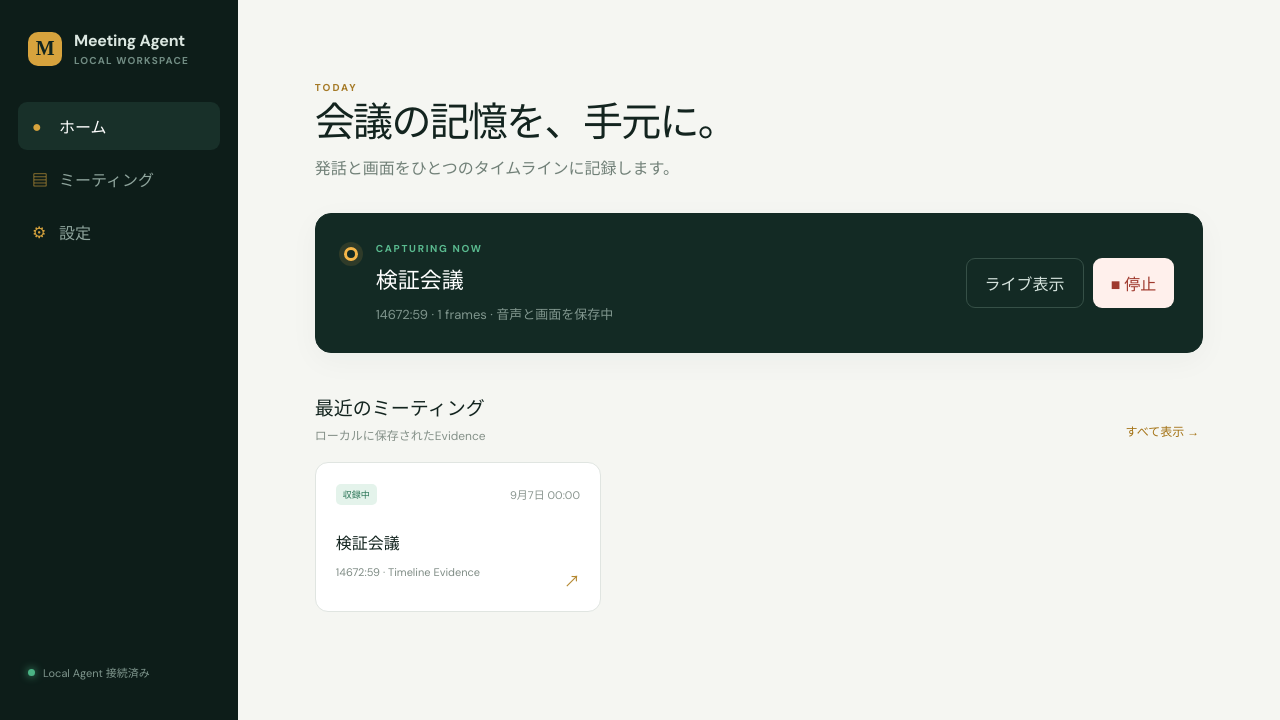
Scenario: shows an evidence-backed name and leaves other system speech unknown
Click the button "ライブ表示" at (1025, 282), box [966,258,1084,308]
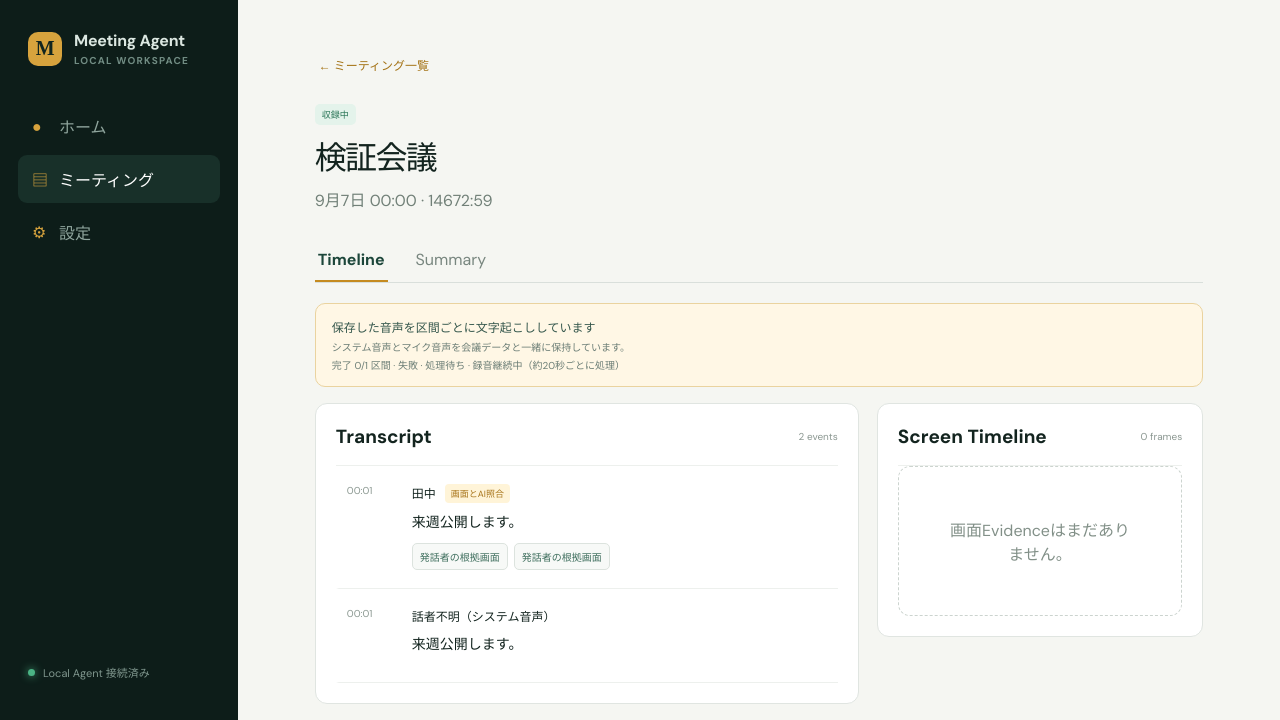
Expected: the text "田中" is shown, [412,484,436,502]
Expected: the text "話者不明（システム音声）" is shown, [412,607,556,625]
Expected: the number of buttons "発話者の根拠画面" is 2, [412,543,508,570]; [514,543,610,570]
